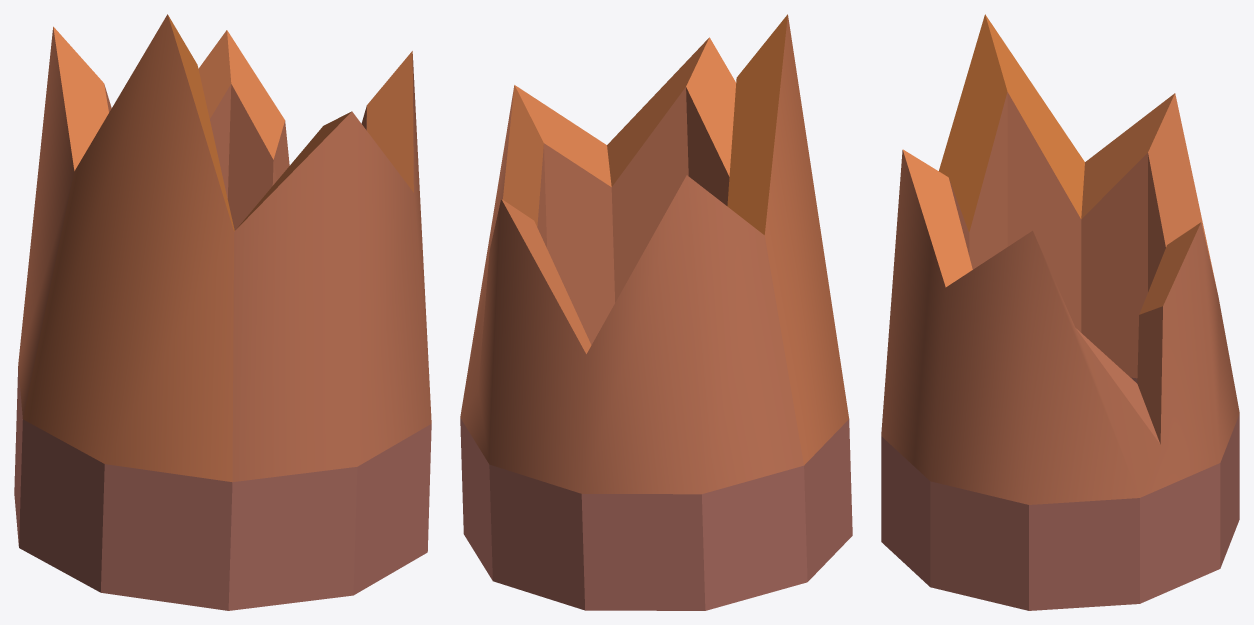
The model's file is fire_red.glb.
The picture shows the model from 3 angles, left to right: view 1: azimuth 30°, elevation 25°; view 2: azimuth 150°, elevation 25°; view 3: azimuth 270°, elevation 25°; orthographic projection. The views are drawn at different scales.
Visible parts, largest first — view 1: Fire_Red.001; view 2: Fire_Red.001; view 3: Fire_Red.001.
Boxes of the visible parts, <box> form: Fire_Red.001: <box>14,14,431,610</box>; Fire_Red.001: <box>460,14,852,610</box>; Fire_Red.001: <box>881,14,1239,610</box>.
Size of the model in its own units: 0.1775 by 0.2617 by 0.1767.
